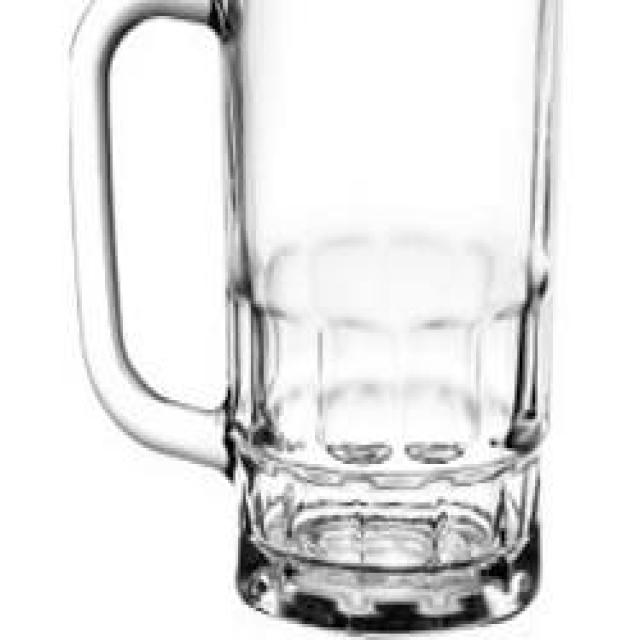alat_rumah_tangga: (35, 17, 639, 630)
